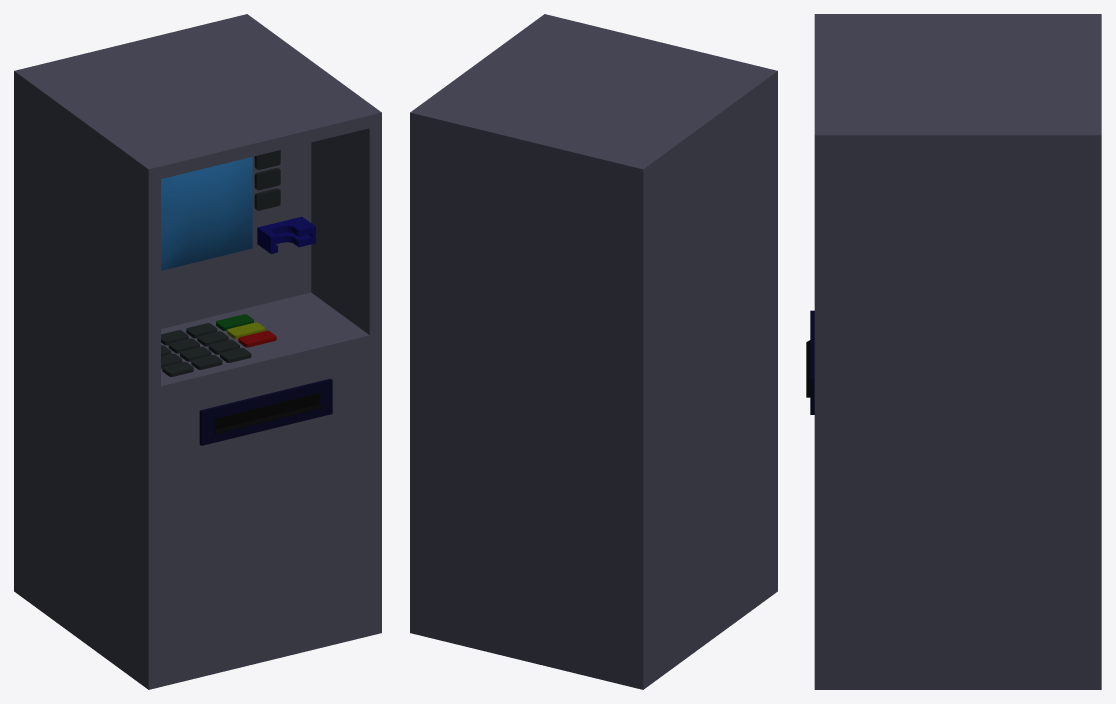
The model's file is ATM.fbx.
3 views of the same model, side by side, from view 1: azimuth 30°, elevation 25°; view 2: azimuth 150°, elevation 25°; view 3: azimuth 270°, elevation 25° (orthographic). The views are drawn at different scales.
Visible parts, largest first — view 1: ATM; view 2: ATM; view 3: ATM.
Boxes of the visible parts, left/top/right/bottom form: ATM: left=14, top=14, right=381, bottom=689; ATM: left=410, top=14, right=777, bottom=689; ATM: left=806, top=14, right=1101, bottom=689.
Bounding box in the file's own units: 200 × 427 × 206.
